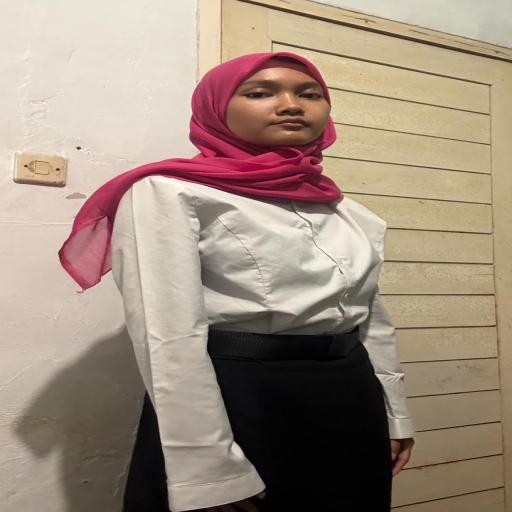kemeja_benar: (93, 177, 401, 335)
kerudung_benar: (142, 50, 382, 211)
rok_benar: (133, 366, 393, 512)
sabuk_ada: (190, 323, 380, 366)
